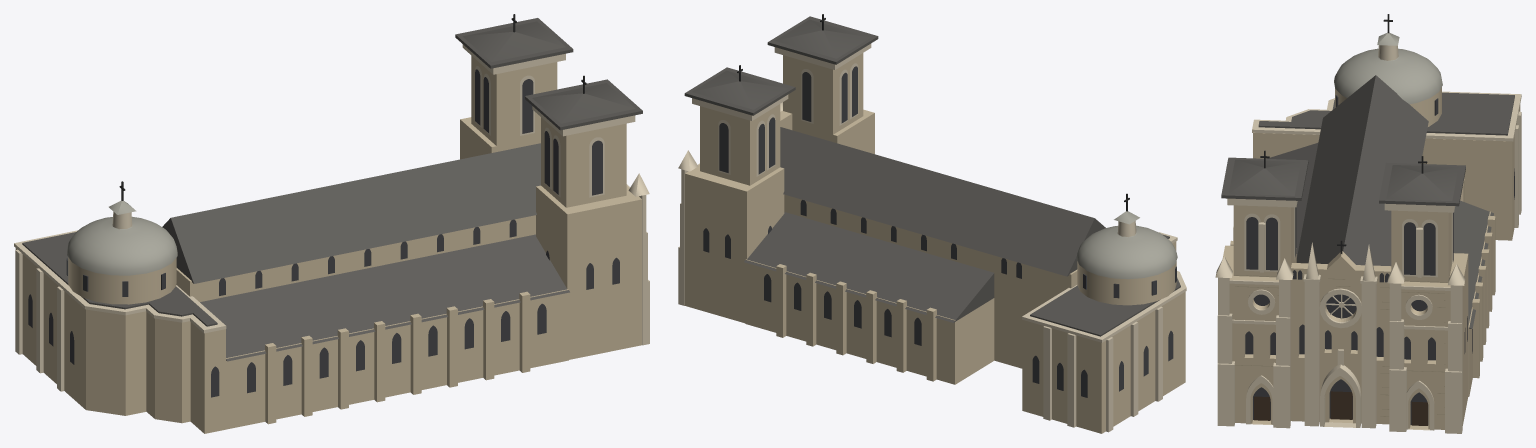
The model's file is san-fernando-cathedral-near.glb.
The picture shows the model from 3 angles, left to right: view 1: azimuth 30°, elevation 25°; view 2: azimuth 150°, elevation 25°; view 3: azimuth 270°, elevation 25°; orthographic projection. The views are drawn at different scales.
Parts seen in each view (by area): view 1: san-fernando-cathedral-0-stone, san-fernando-cathedral-0-roof, san-fernando-cathedral-0-trim, san-fernando-cathedral-0-dark, san-fernando-cathedral-0-dome; view 2: san-fernando-cathedral-0-stone, san-fernando-cathedral-0-roof, san-fernando-cathedral-0-trim, san-fernando-cathedral-0-dark, san-fernando-cathedral-0-dome; view 3: san-fernando-cathedral-0-stone, san-fernando-cathedral-0-roof, san-fernando-cathedral-0-trim, san-fernando-cathedral-0-dark, san-fernando-cathedral-0-dome, san-fernando-cathedral-0-wood, san-fernando-cathedral-0-joint.
Boxes of the visible parts, bbox=[...] form: san-fernando-cathedral-0-stone: bbox=[15, 55, 641, 433]; san-fernando-cathedral-0-roof: bbox=[22, 18, 642, 361]; san-fernando-cathedral-0-trim: bbox=[14, 44, 649, 391]; san-fernando-cathedral-0-dark: bbox=[28, 69, 619, 397]; san-fernando-cathedral-0-dome: bbox=[67, 200, 177, 275]; san-fernando-cathedral-0-stone: bbox=[685, 53, 1185, 433]; san-fernando-cathedral-0-roof: bbox=[684, 16, 1180, 336]; san-fernando-cathedral-0-trim: bbox=[678, 43, 1186, 432]; san-fernando-cathedral-0-dark: bbox=[703, 66, 1176, 397]; san-fernando-cathedral-0-dome: bbox=[1076, 211, 1177, 279]; san-fernando-cathedral-0-stone: bbox=[1222, 87, 1520, 429]; san-fernando-cathedral-0-roof: bbox=[1221, 75, 1514, 328]; san-fernando-cathedral-0-trim: bbox=[1215, 45, 1521, 433]; san-fernando-cathedral-0-dark: bbox=[1245, 95, 1514, 425]; san-fernando-cathedral-0-dome: bbox=[1334, 32, 1442, 104]; san-fernando-cathedral-0-wood: bbox=[1254, 391, 1427, 425]; san-fernando-cathedral-0-joint: bbox=[1235, 275, 1447, 416].
Bounding box in the file's own units: 52.56 × 25.7 × 27.97.
